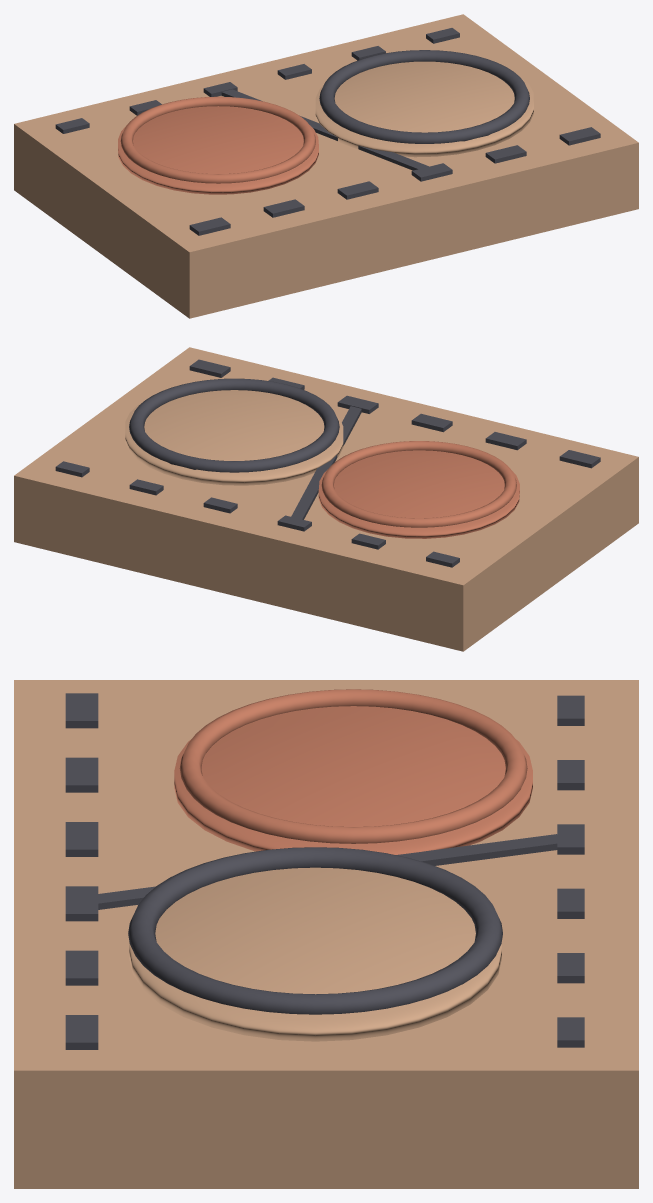
The model's file is prop_k08.glb.
The picture shows the model from 3 angles, top to bottom: view 1: azimuth 30°, elevation 25°; view 2: azimuth 150°, elevation 25°; view 3: azimuth 270°, elevation 25°; orthographic projection. The views are drawn at different scales.
Parts seen in each view (by area): view 1: Prop_K08; view 2: Prop_K08; view 3: Prop_K08.
Part boxes in pixels (x1,y1,x2,y2): Prop_K08: [14, 14, 638, 318]; Prop_K08: [14, 347, 638, 651]; Prop_K08: [14, 680, 638, 1188].
Size of the model in its own units: 1.7 by 0.33 by 1.15.
